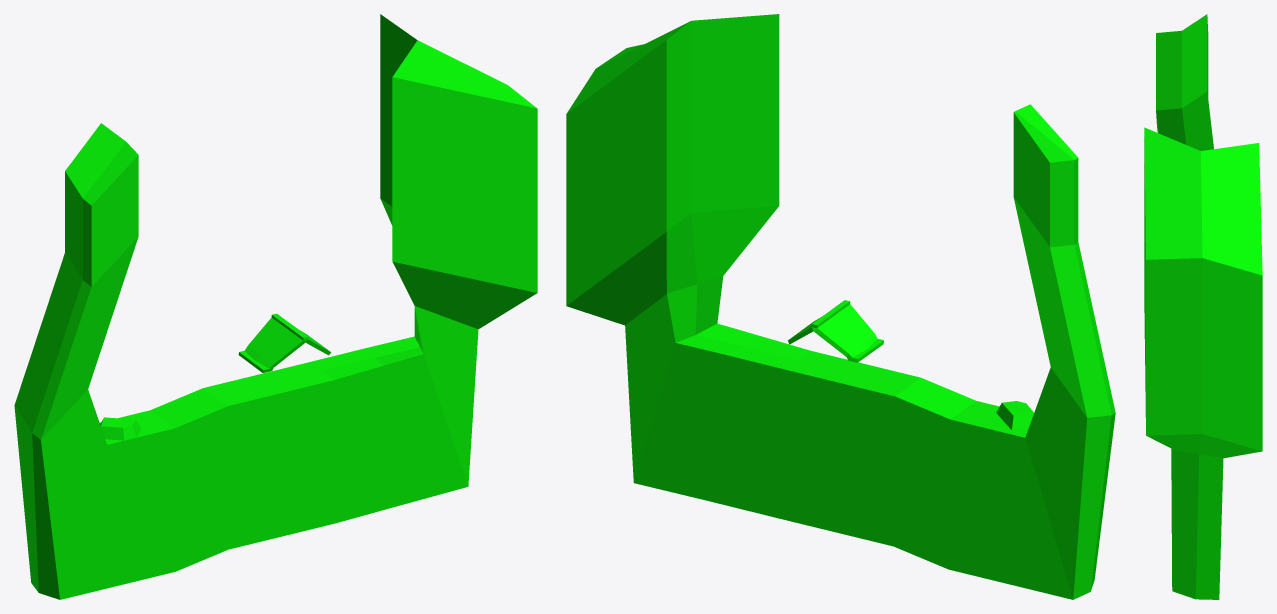
The model's file is SpawnRoom Hitbox.obj.
3 renders of one model, left to right at view 1: azimuth 30°, elevation 25°; view 2: azimuth 150°, elevation 25°; view 3: azimuth 270°, elevation 25°, orthographic. The views are drawn at different scales.
Parts seen in each view (by area): view 1: Hitbox_Level1.002; view 2: Hitbox_Level1.002; view 3: Hitbox_Level1.002.
Part boxes in pixels (<box>): Hitbox_Level1.002: <box>14,14,537,599</box>; Hitbox_Level1.002: <box>566,14,1115,599</box>; Hitbox_Level1.002: <box>1144,14,1262,599</box>.
Bounding box in the file's own units: 54.88 × 50 × 12.14.
